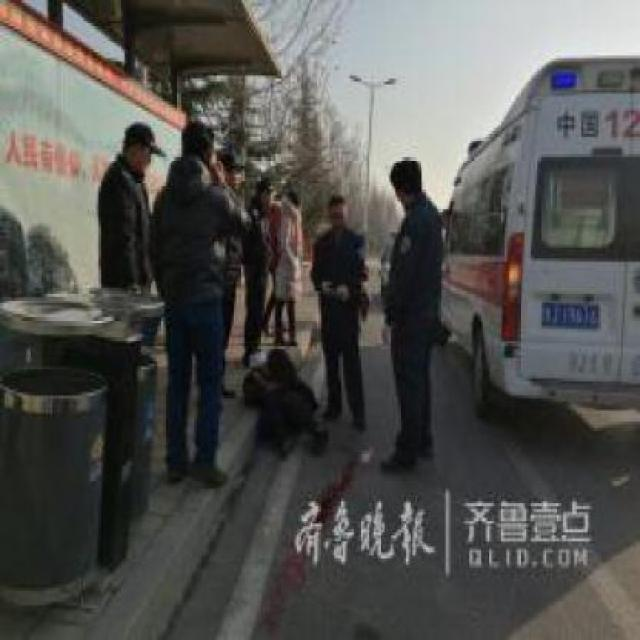fall: (229, 326, 329, 457)
